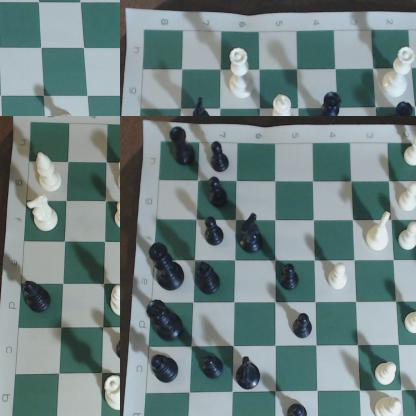black-bishop: (195, 260, 230, 304), (24, 276, 55, 317), (150, 353, 185, 387)
black-king: (148, 240, 188, 296)
black-knight: (240, 212, 267, 253), (235, 356, 264, 392), (189, 99, 220, 116)
black-pawn: (201, 178, 231, 211), (209, 136, 232, 176), (288, 310, 317, 341), (198, 353, 225, 382), (201, 217, 224, 251), (280, 262, 300, 292), (285, 402, 308, 416), (114, 331, 120, 365)
black-queen: (146, 297, 189, 345), (314, 93, 345, 116)
black-rook: (169, 124, 199, 171), (387, 103, 416, 116)
white-bishop: (35, 151, 67, 194), (366, 397, 405, 416), (108, 282, 120, 322)
white-king: (261, 93, 298, 116)
white-knight: (362, 210, 394, 255), (25, 197, 63, 233)
white-pawn: (322, 264, 351, 295), (372, 361, 400, 391), (393, 181, 416, 212), (395, 222, 416, 255), (404, 132, 416, 171), (404, 309, 416, 338)
white-queen: (380, 47, 416, 100), (227, 47, 258, 101), (98, 374, 120, 412)
